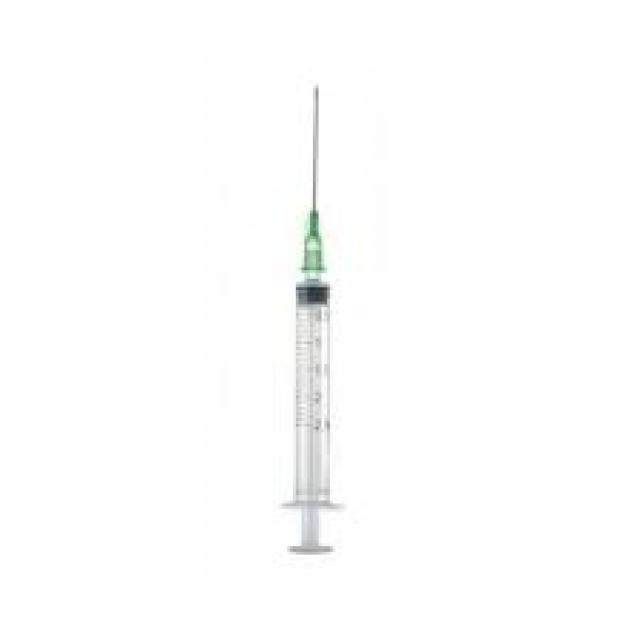syringe: (270, 43, 374, 567)
